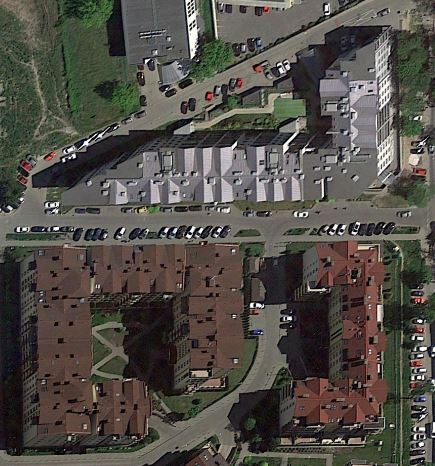block of flats: (46, 21, 398, 212), (13, 230, 251, 457), (273, 222, 387, 439), (115, 1, 205, 66)
